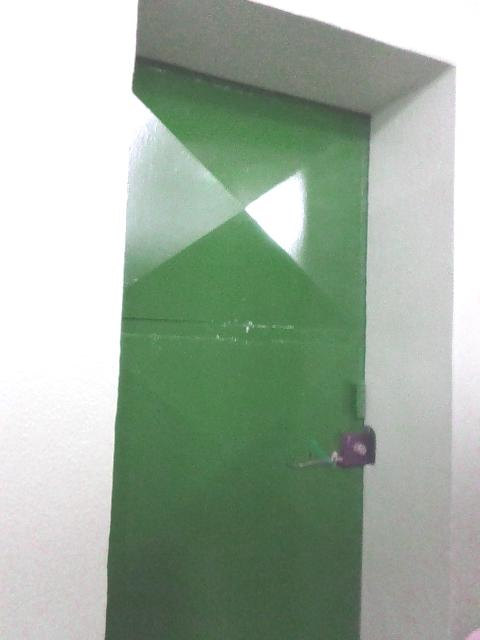closed_door: (110, 54, 369, 639)
